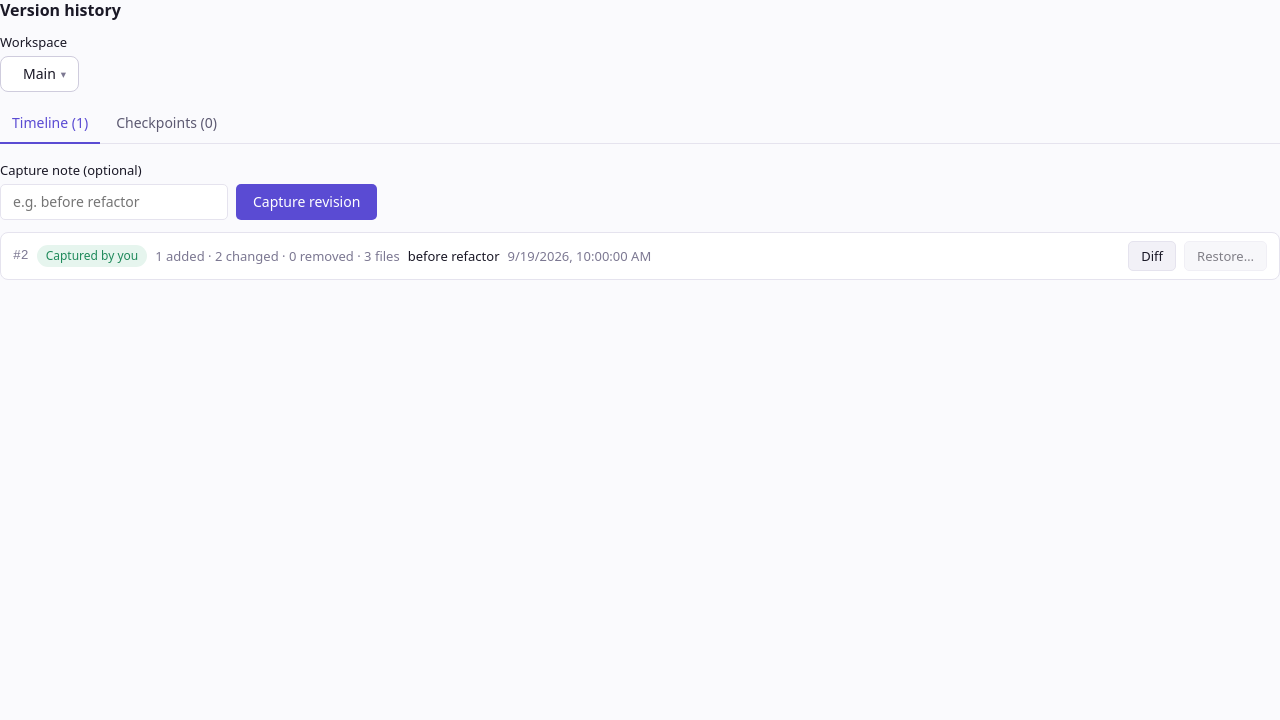
Scenario: VersionPanel › opens a bounded diff dialog from a revision row
Click the button "Diff" at (1152, 256), box 1128,241 -> 1176,271
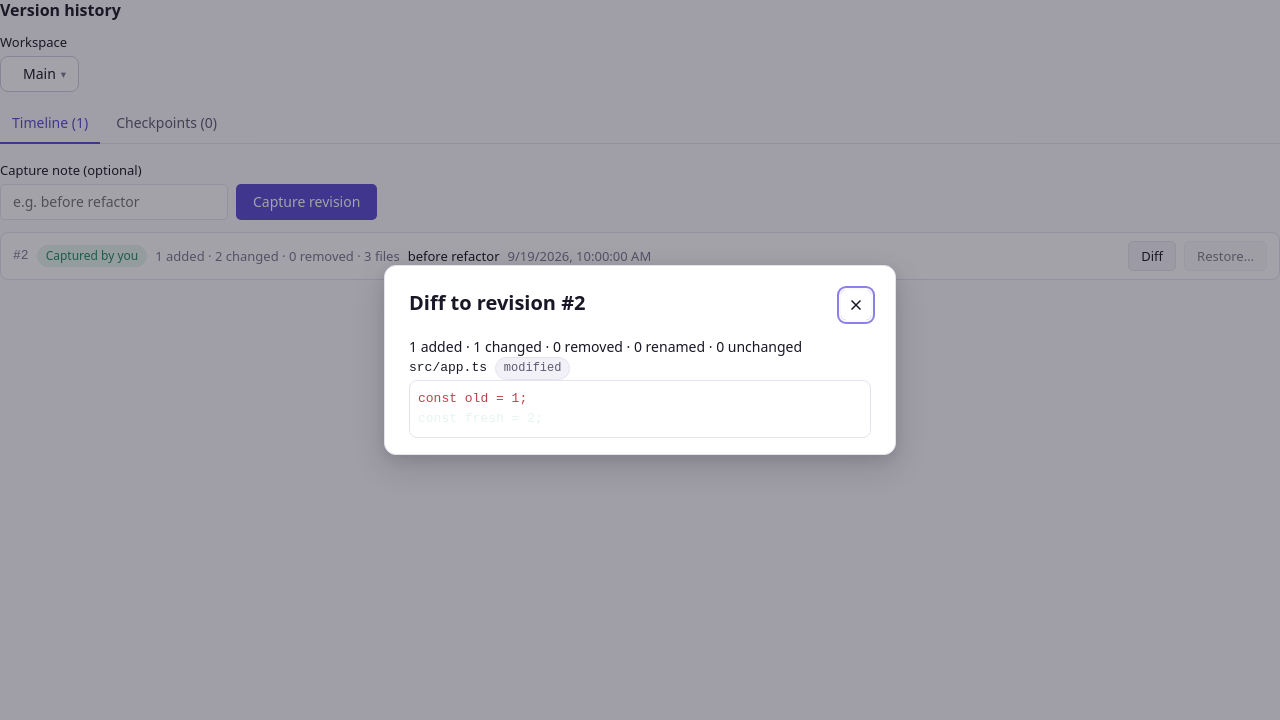
Expected: the text "const fresh = 2;" is shown, 418,411 -> 543,426
Expected: the dialog is shown, 384,265 -> 896,455
